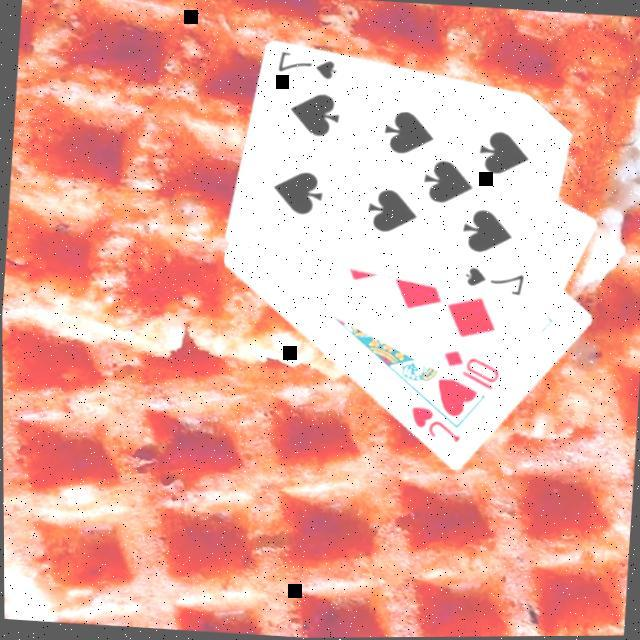10D: (437, 349, 502, 397)
7S: (460, 265, 527, 301), (273, 50, 340, 86)
JH: (403, 404, 464, 450)
